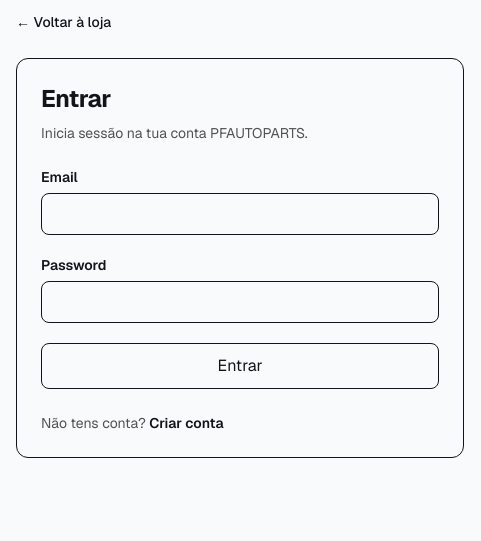
Test case: LoginPage › mostra erro quando as credenciais são inválidas sem tocar no carrinho
Type "cliente@example.com" into the field labelled "Email" at (240, 214), box [41,193,439,235]
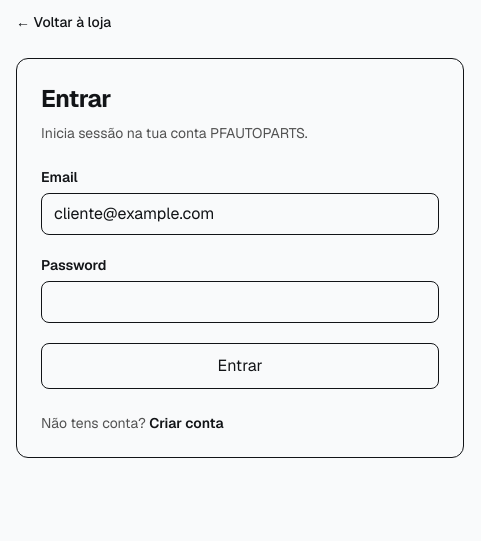
Type "errada" into the password field labelled "Password" at (240, 302), box [41,281,439,323]
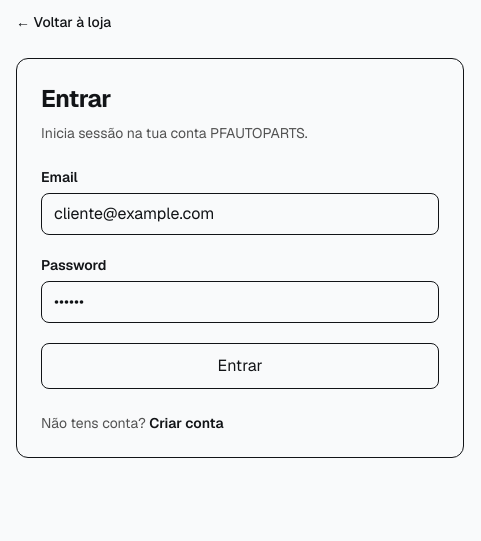
Click the button "Entrar" at (240, 366), box [41,343,439,389]
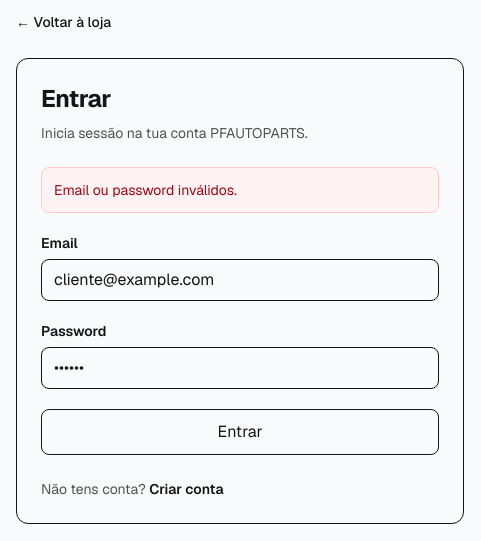
expect the message reads "Email ou password inválidos.": met, box [54,181,237,199]
